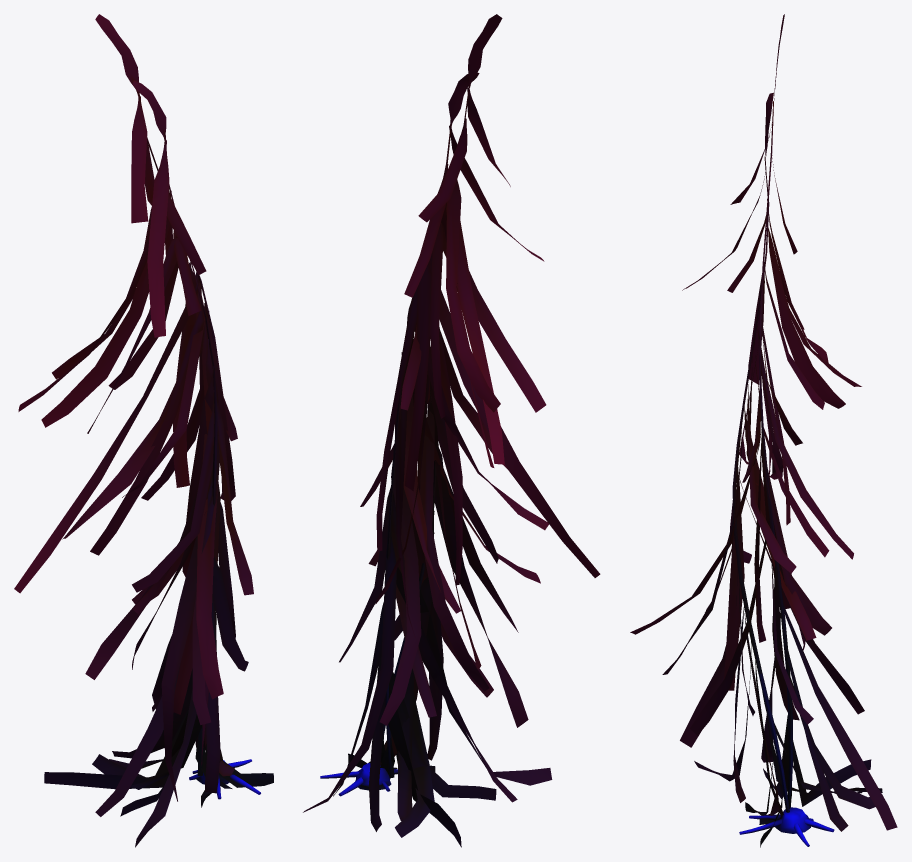
The model's file is MESH_Flora_Kelp_s4022_q050.fbx.
3 views of the same model, side by side, from view 1: azimuth 30°, elevation 25°; view 2: azimuth 150°, elevation 25°; view 3: azimuth 270°, elevation 25° (orthographic). The views are drawn at different scales.
Parts seen in each view (by area): view 1: MESH_Flora_Kelp_s4022_q050_LOD0; view 2: MESH_Flora_Kelp_s4022_q050_LOD0; view 3: MESH_Flora_Kelp_s4022_q050_LOD0.
Boxes of the visible parts, x1=… form: MESH_Flora_Kelp_s4022_q050_LOD0: x1=14, y1=14, x2=273, y2=847; MESH_Flora_Kelp_s4022_q050_LOD0: x1=303, y1=14, x2=600, y2=847; MESH_Flora_Kelp_s4022_q050_LOD0: x1=630, y1=14, x2=897, y2=847.
Size of what is drawn, in the model's own units: 300 by 885 by 283.
